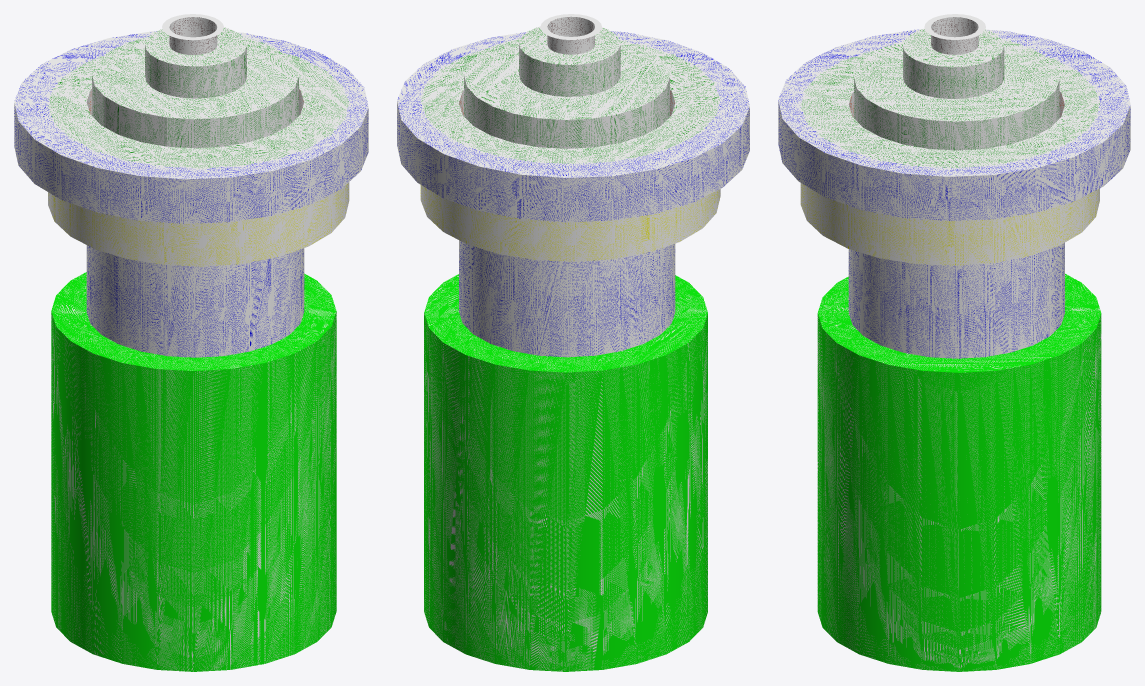
3 views of the same model, side by side, from view 1: azimuth 30°, elevation 25°; view 2: azimuth 150°, elevation 25°; view 3: azimuth 270°, elevation 25° (orthographic).
Parts seen in each view (by area): view 1: mesh1_mesh1-geometry, mesh2_mesh2-geometry; view 2: mesh1_mesh1-geometry, mesh2_mesh2-geometry; view 3: mesh1_mesh1-geometry, mesh2_mesh2-geometry.
Boxes of the visible parts, x1,y1,x2,y2 form: mesh1_mesh1-geometry: (14, 31, 368, 671); mesh2_mesh2-geometry: (92, 14, 298, 148); mesh1_mesh1-geometry: (397, 31, 749, 671); mesh2_mesh2-geometry: (464, 14, 669, 148); mesh1_mesh1-geometry: (778, 29, 1130, 671); mesh2_mesh2-geometry: (854, 14, 1059, 150).
Bounding box in the file's own units: 0.433 × 0.7906 × 0.433.
